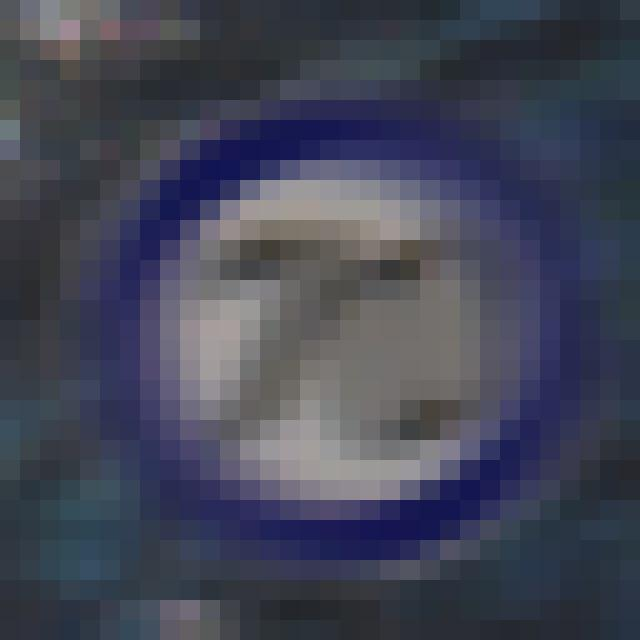SPEED LIMIT 70: (93, 117, 585, 563)
